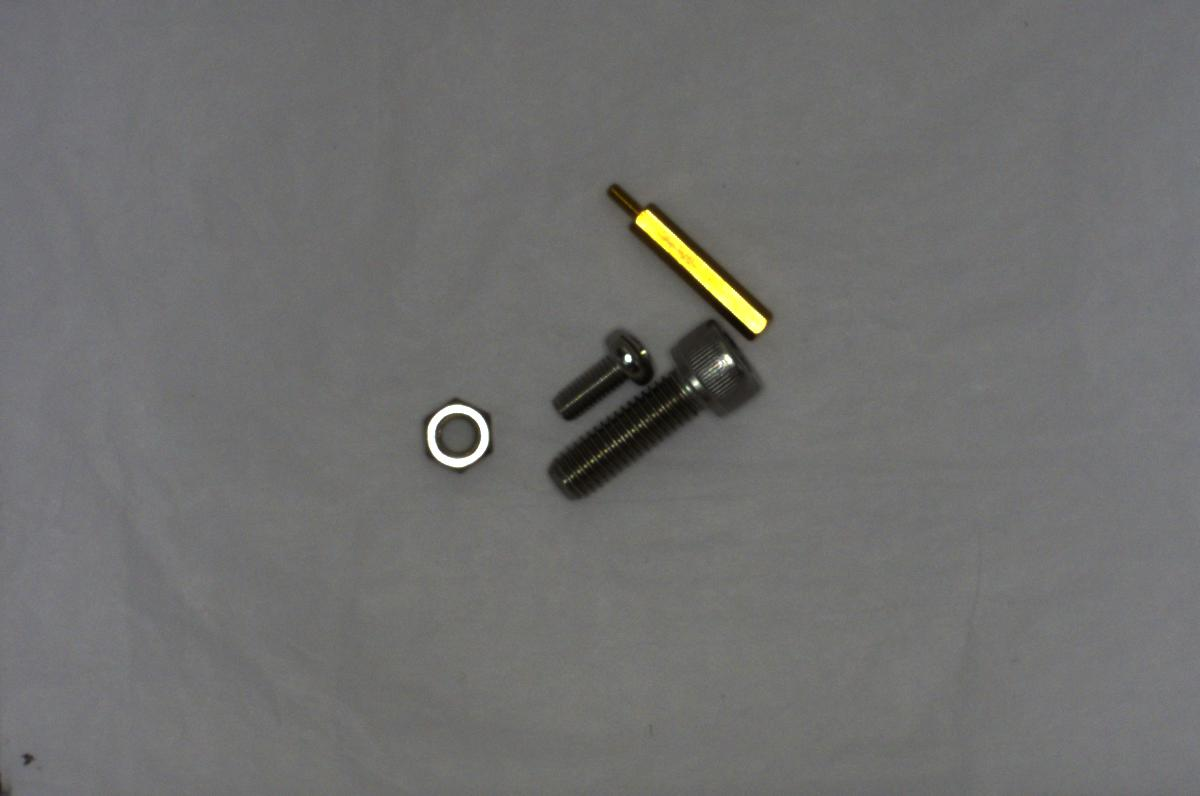Hexagon nut: (408, 390, 502, 475)
Hexagon pillar: (594, 175, 779, 339)
Hexagon screw: (541, 323, 768, 508)
Round head screw: (532, 329, 651, 422)
